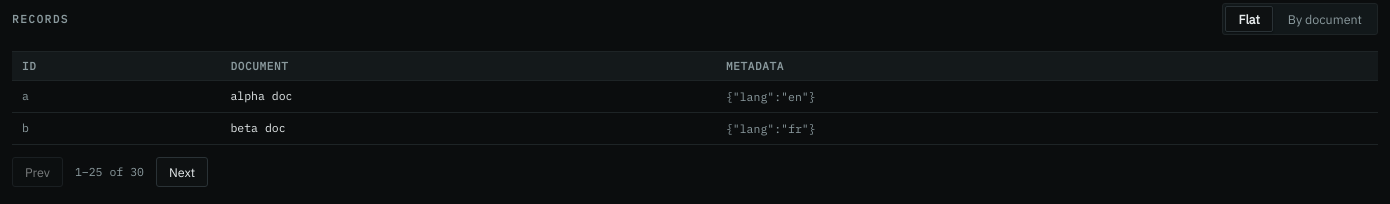
Test case: switches to the By document view
Expected: the text "alpha doc" is shown, [220, 80, 716, 112]
Click the tab "By document". click: (1325, 19)
box: [1275, 6, 1375, 32]
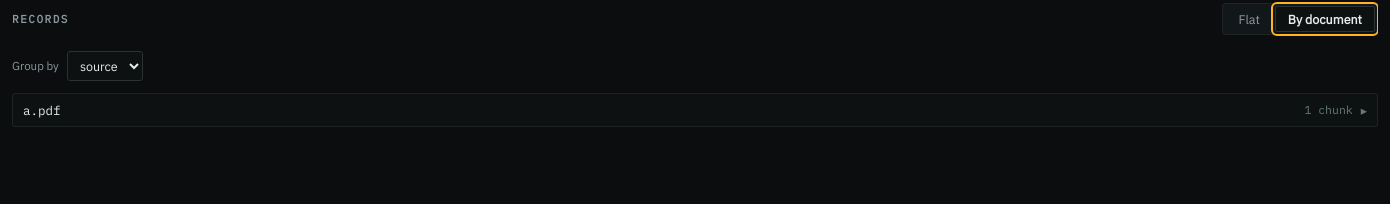
Expected: the text "a.pdf" is shown, [23, 102, 60, 118]
